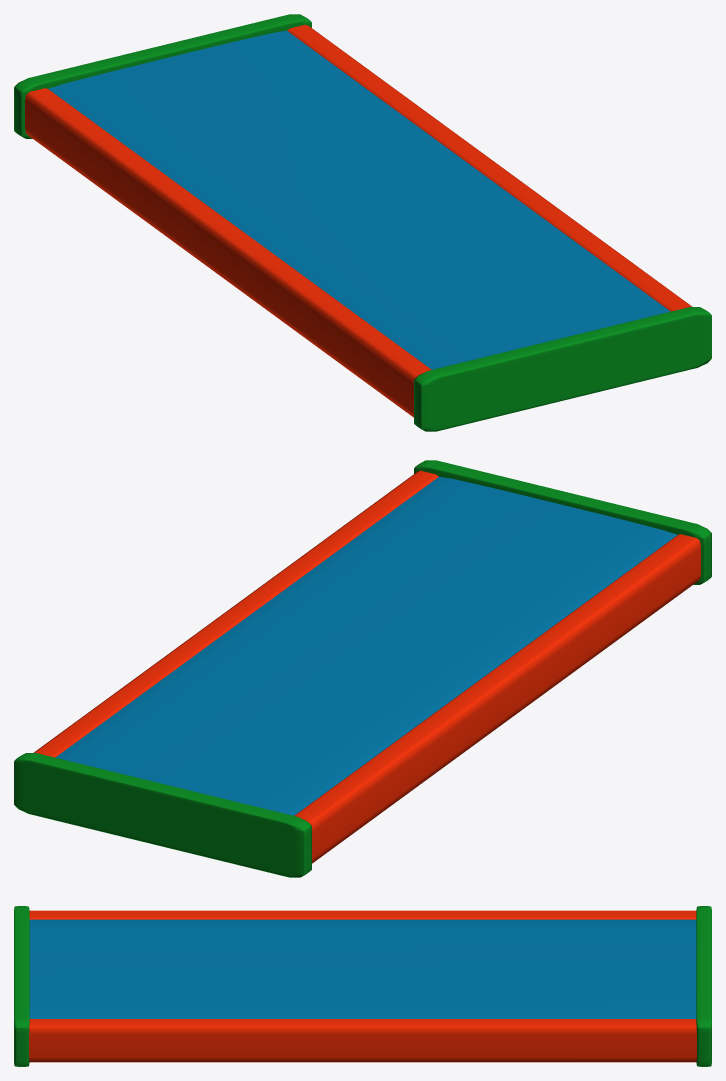
The model's file is Seesaw_Plank.glb.
3 views of the same model, one above another, from view 1: azimuth 30°, elevation 25°; view 2: azimuth 150°, elevation 25°; view 3: azimuth 270°, elevation 25° (orthographic). The views are drawn at different scales.
Visible parts, largest first — view 1: Seesaw_Plank; view 2: Seesaw_Plank; view 3: Seesaw_Plank.
Boxes of the visible parts, x1,y1,x2,y2 form: Seesaw_Plank: (14, 14, 711, 431); Seesaw_Plank: (14, 460, 711, 877); Seesaw_Plank: (14, 906, 711, 1066).
Size of the model in its own units: 3.36 by 0.6153 by 8.18.
